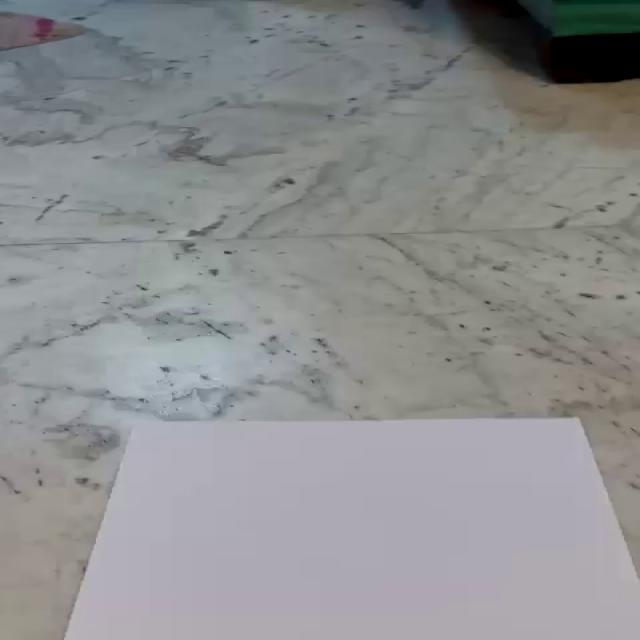road: (63, 417, 640, 640)
